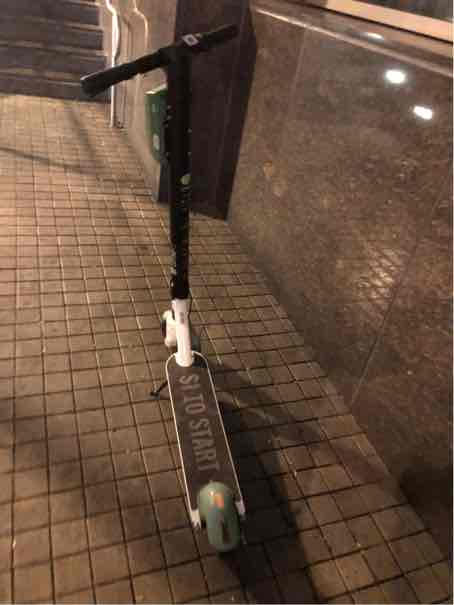scooter: (77, 22, 287, 564)
